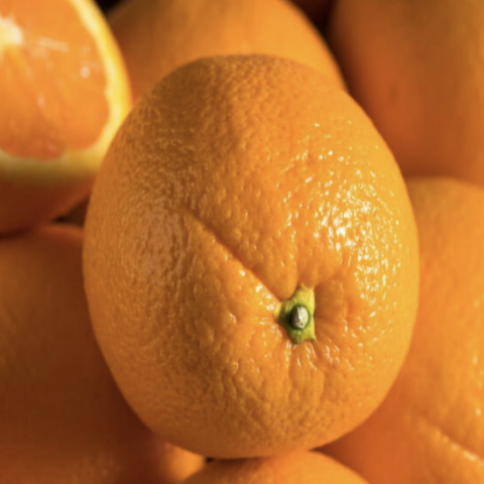orange: (67, 24, 460, 480)
